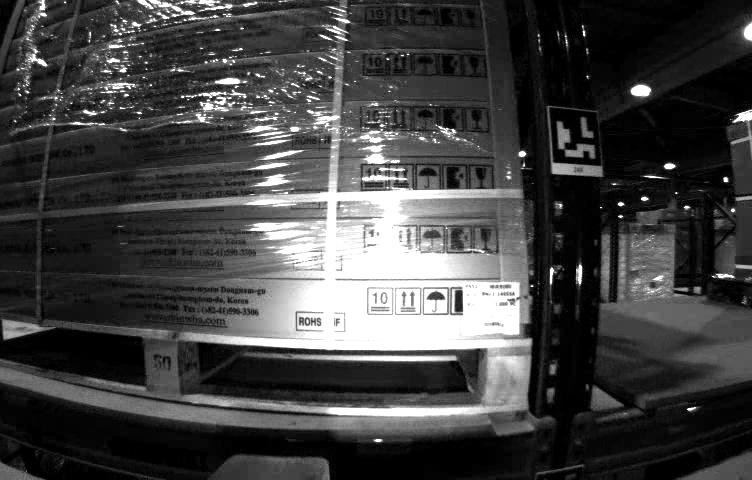True Barcode: (463, 281, 521, 336)
